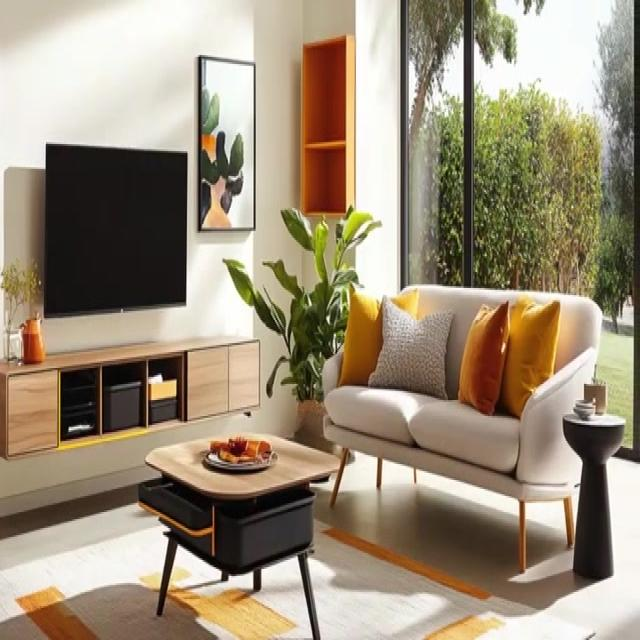obstacle: (321, 281, 602, 572), (139, 430, 348, 636), (0, 326, 262, 461), (300, 32, 355, 217)
